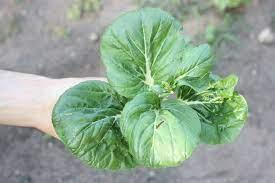Healthy-Pechay: (69, 11, 238, 168)
